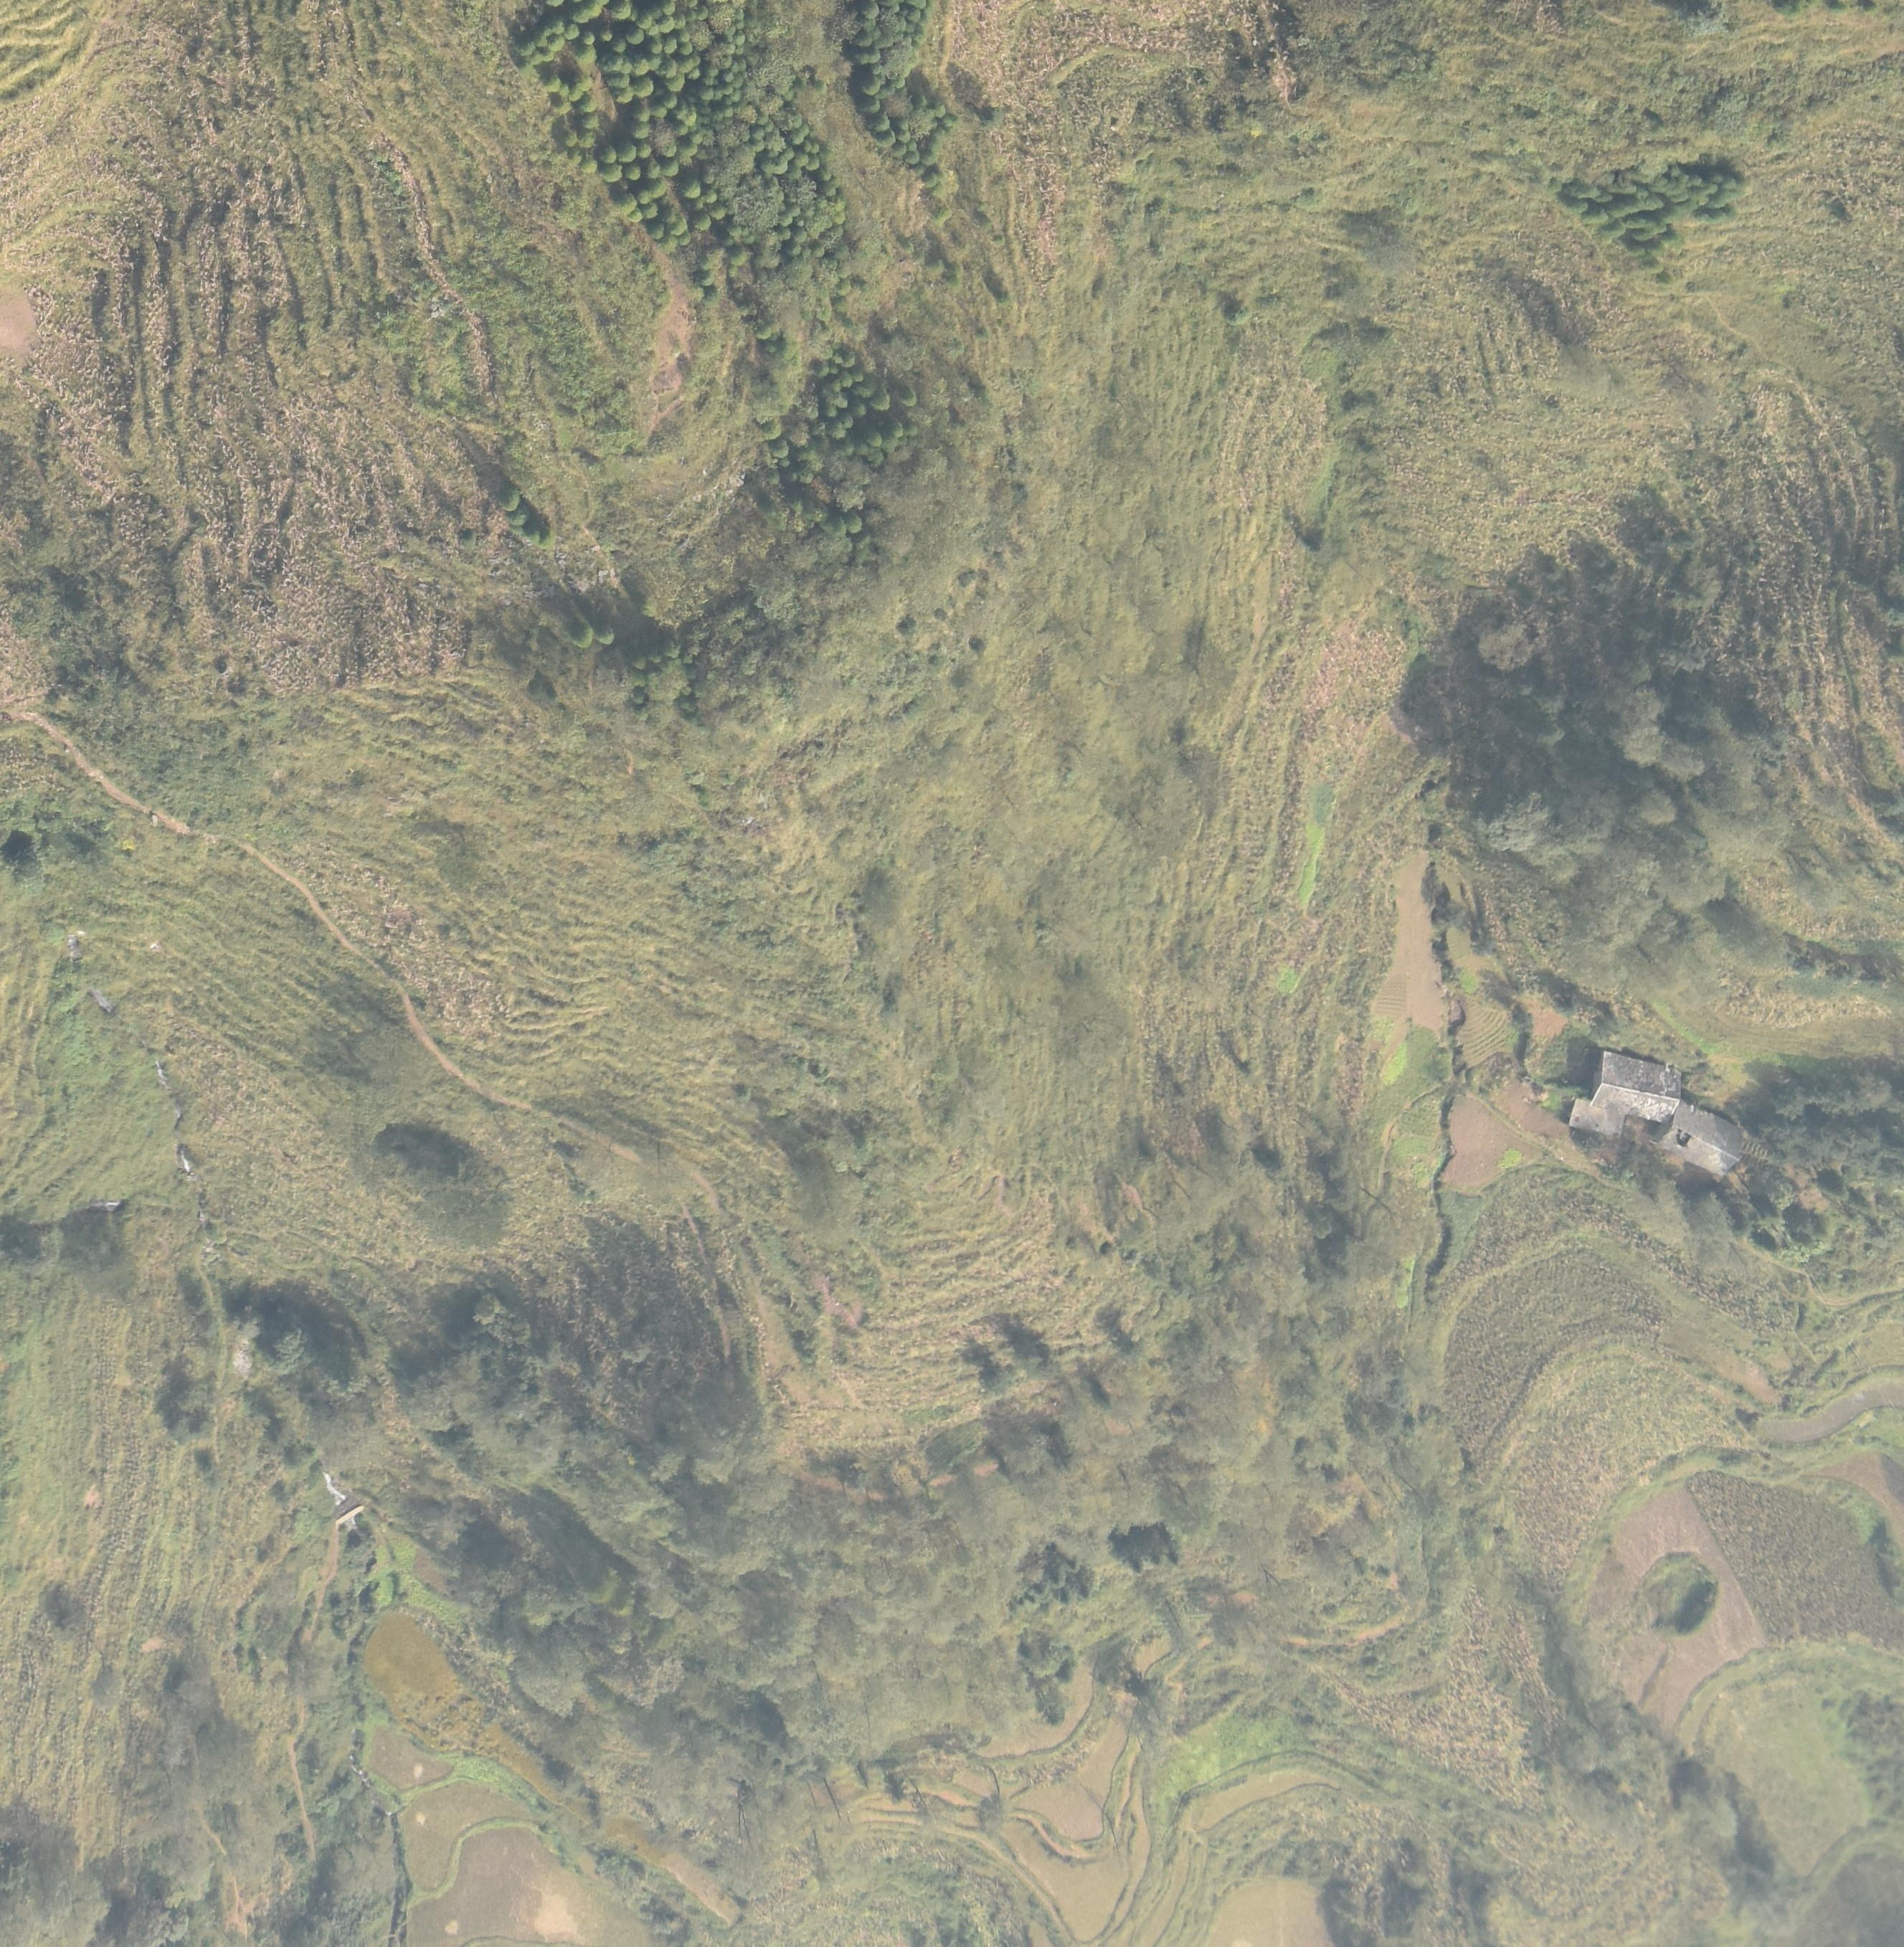building: (1590, 1051, 1683, 1121), (1665, 1098, 1744, 1175), (1569, 1100, 1627, 1140)
